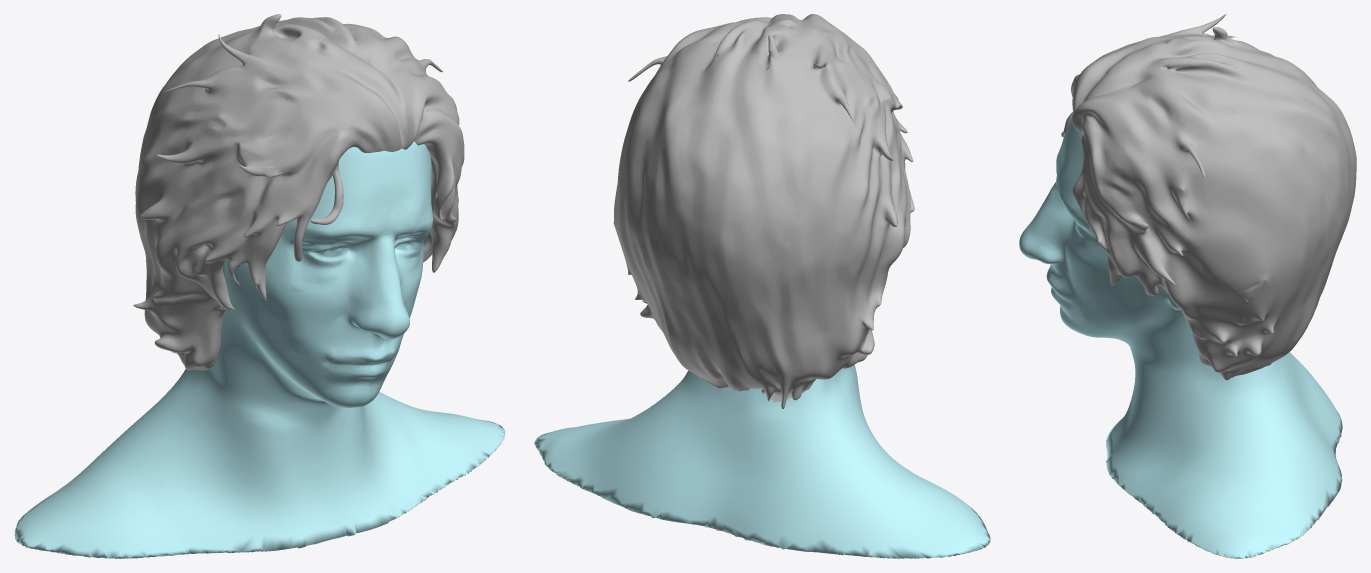
Rendered from iker.glb.
The picture shows the model from 3 angles, left to right: view 1: azimuth 30°, elevation 25°; view 2: azimuth 150°, elevation 25°; view 3: azimuth 270°, elevation 25°; orthographic projection. The views are drawn at different scales.
Visible parts, largest first — view 1: iker; view 2: iker; view 3: iker.
Part boxes in pixels (x1,y1,x2,y2): iker: (14, 14, 505, 558); iker: (534, 14, 990, 558); iker: (1019, 14, 1356, 558).
Size of the model in its own units: 0.6463 by 0.6145 by 0.4378.
